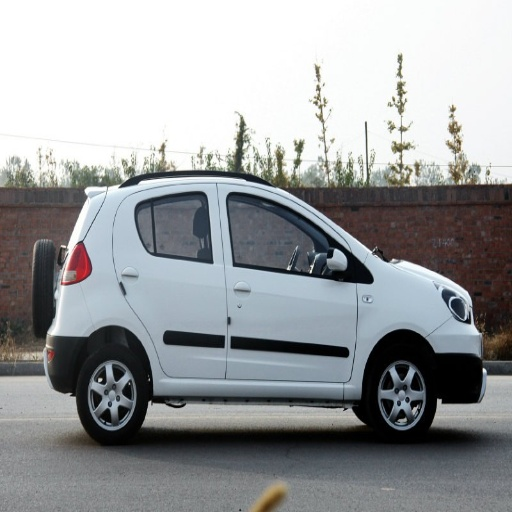back_right_door: (119, 181, 226, 379)
front_right_door: (219, 182, 358, 388)
